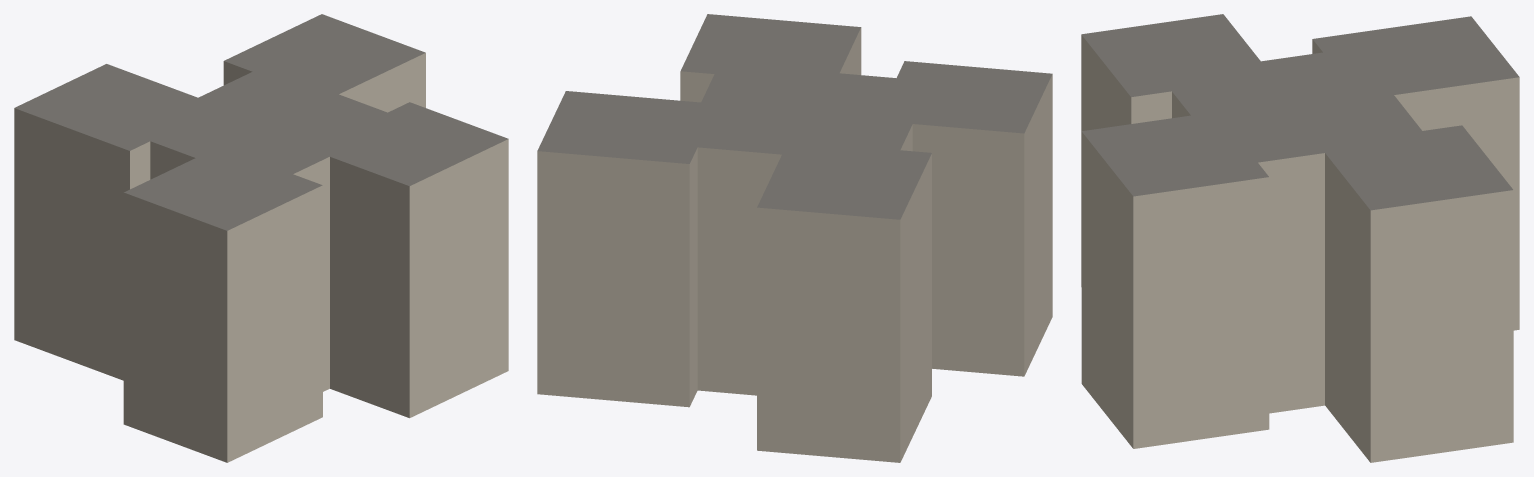
The picture shows the model from 3 angles, left to right: view 1: azimuth 30°, elevation 25°; view 2: azimuth 150°, elevation 25°; view 3: azimuth 270°, elevation 25°; orthographic projection. The views are drawn at different scales.
Parts seen in each view (by area): view 1: HP-w1435252846; view 2: HP-w1435252846; view 3: HP-w1435252846.
Part boxes in pixels (x1=…): HP-w1435252846: x1=14, y1=14, x2=508, y2=462; HP-w1435252846: x1=537, y1=14, x2=1052, y2=462; HP-w1435252846: x1=1081, y1=14, x2=1519, y2=462.
Bounding box in the file's own units: 30.02 × 18 × 28.33.
